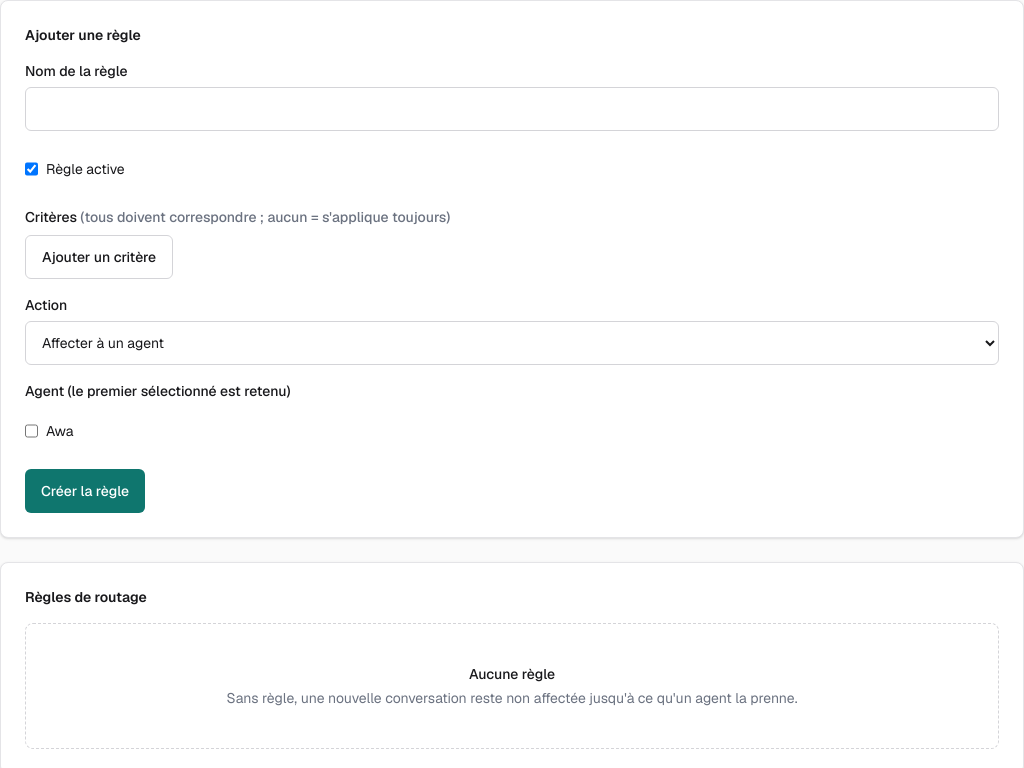
Scenario: RoutingRulesPage › cree une nouvelle regle
Expected: the text "Aucune règle" is shown, [469, 664, 555, 684]
Type "Urgences" into the field labelled "Nom de la règle" at (512, 109), box [25, 87, 999, 131]
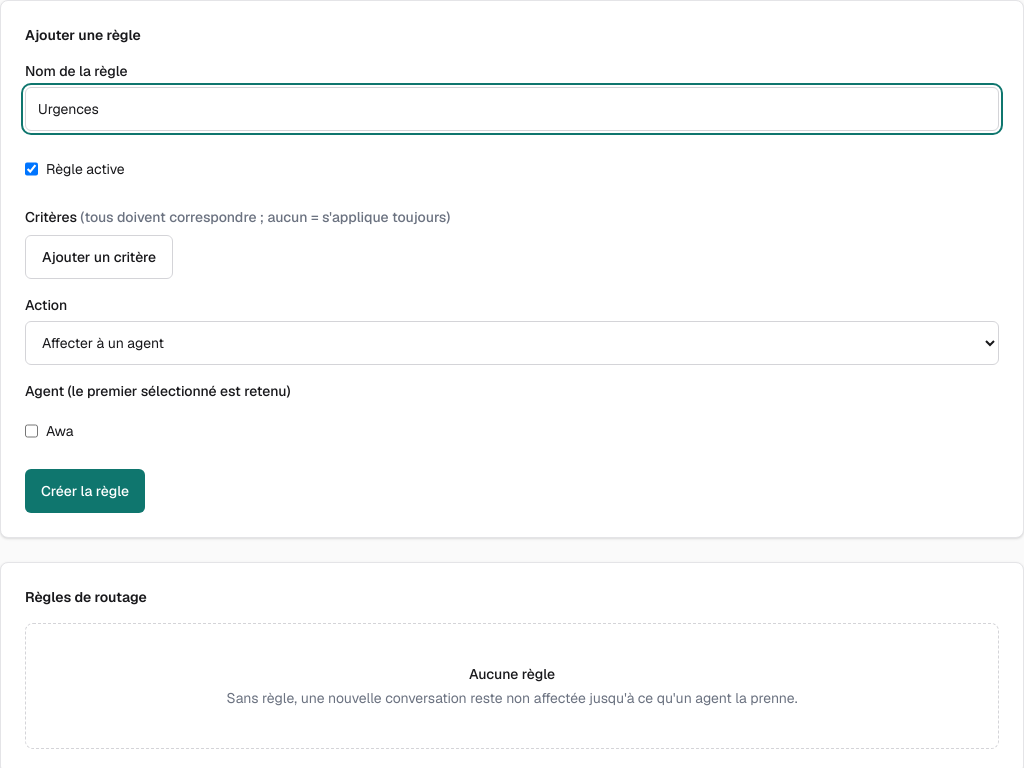
Click the checkbox labelled "Awa" at (32, 431), box [25, 409, 38, 453]
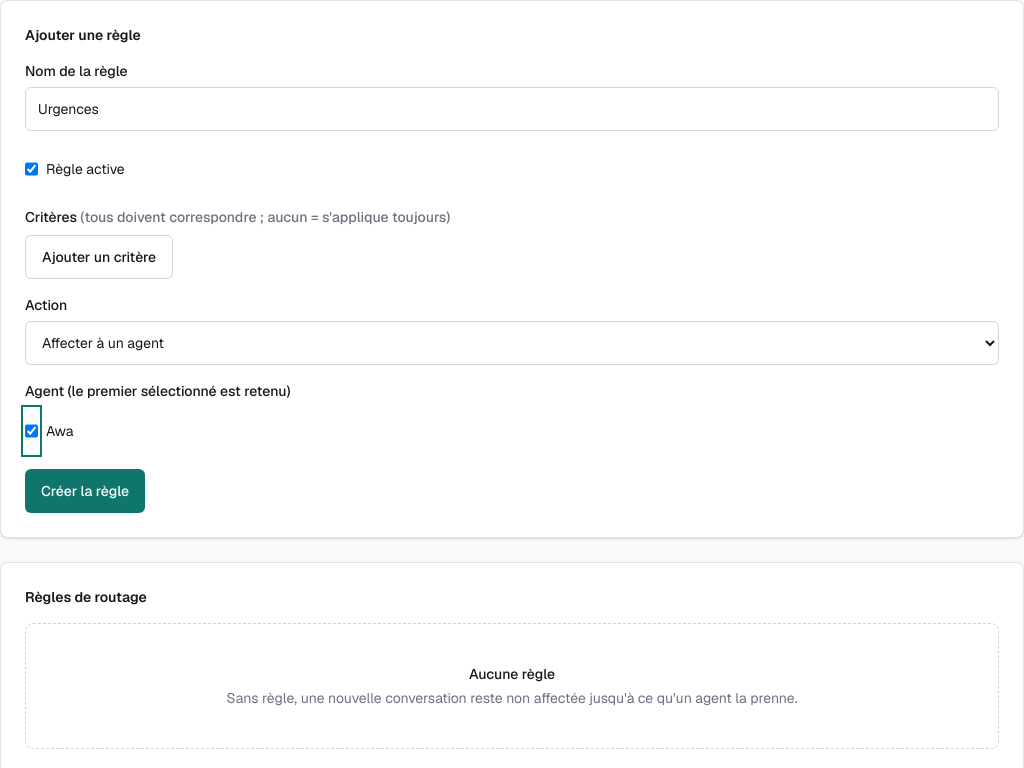
Click the button "Créer la règle" at (85, 491), box [25, 469, 145, 513]
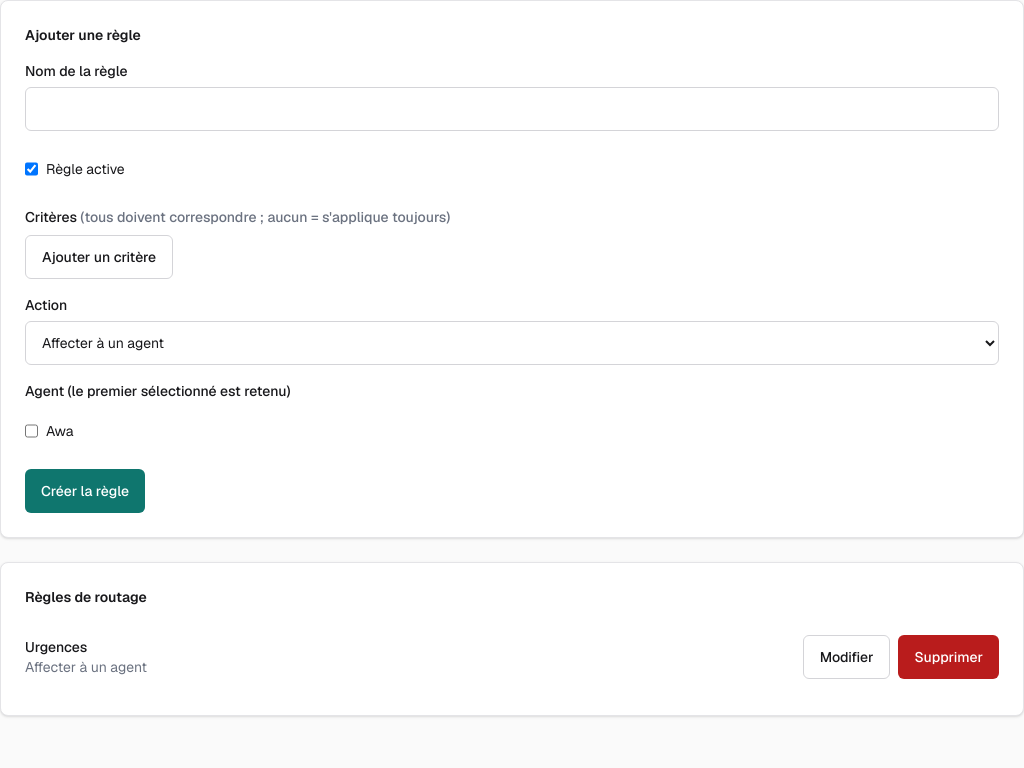
Now the text "Urgences" is shown, box [25, 638, 87, 656]
